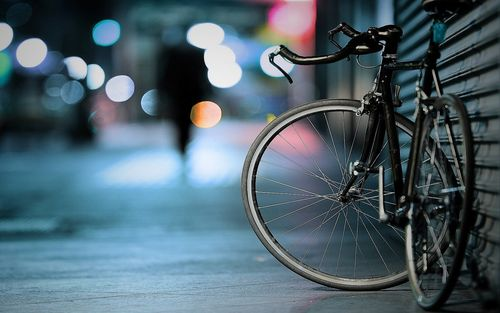单车: (237, 14, 493, 313)
